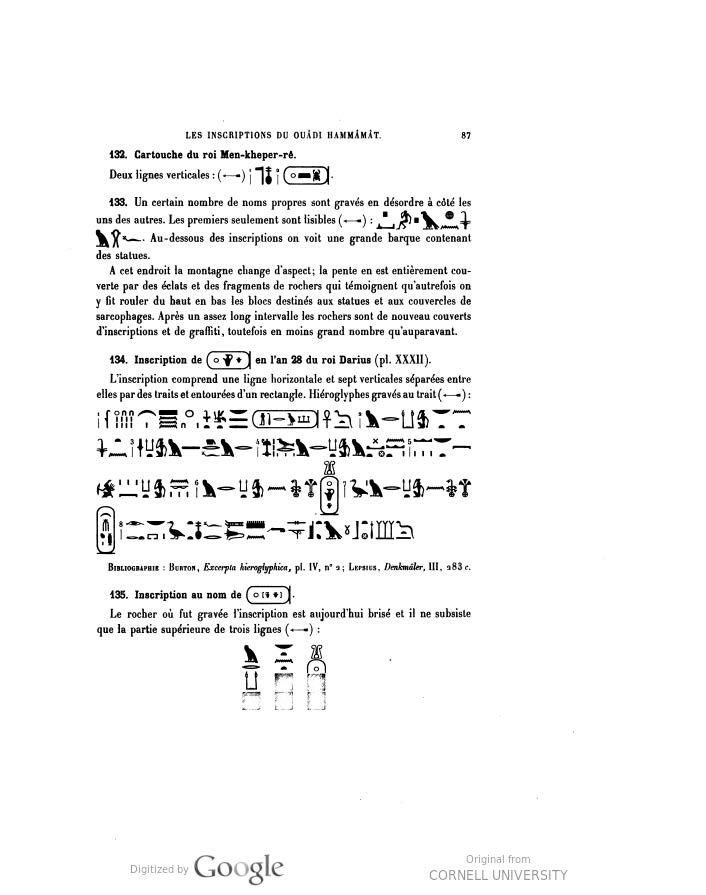circle: (248, 400, 326, 446), (85, 497, 131, 570), (232, 581, 313, 608), (272, 158, 344, 188), (198, 347, 261, 378), (314, 465, 346, 526)
